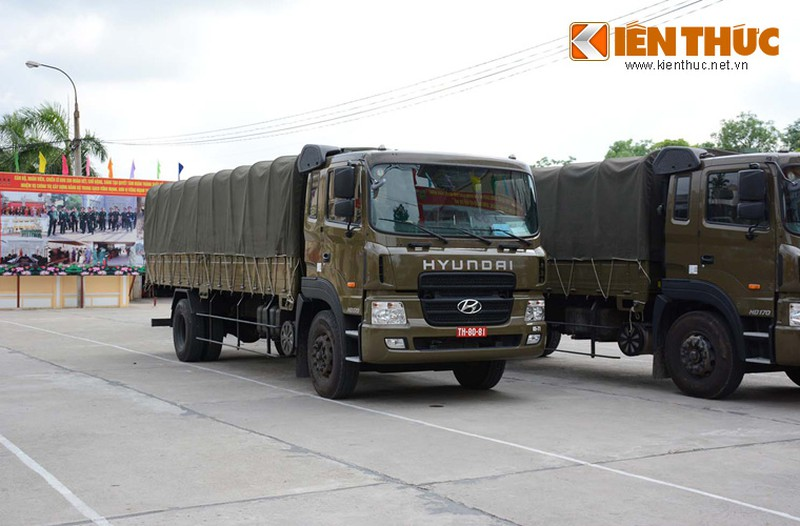plate: (455, 326, 488, 338)
